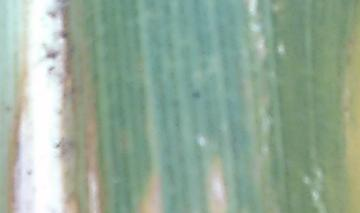tarspot: (39, 41, 61, 62), (43, 7, 60, 20), (54, 136, 65, 149), (188, 90, 202, 100), (46, 64, 57, 72), (59, 29, 68, 38), (25, 167, 33, 177)
